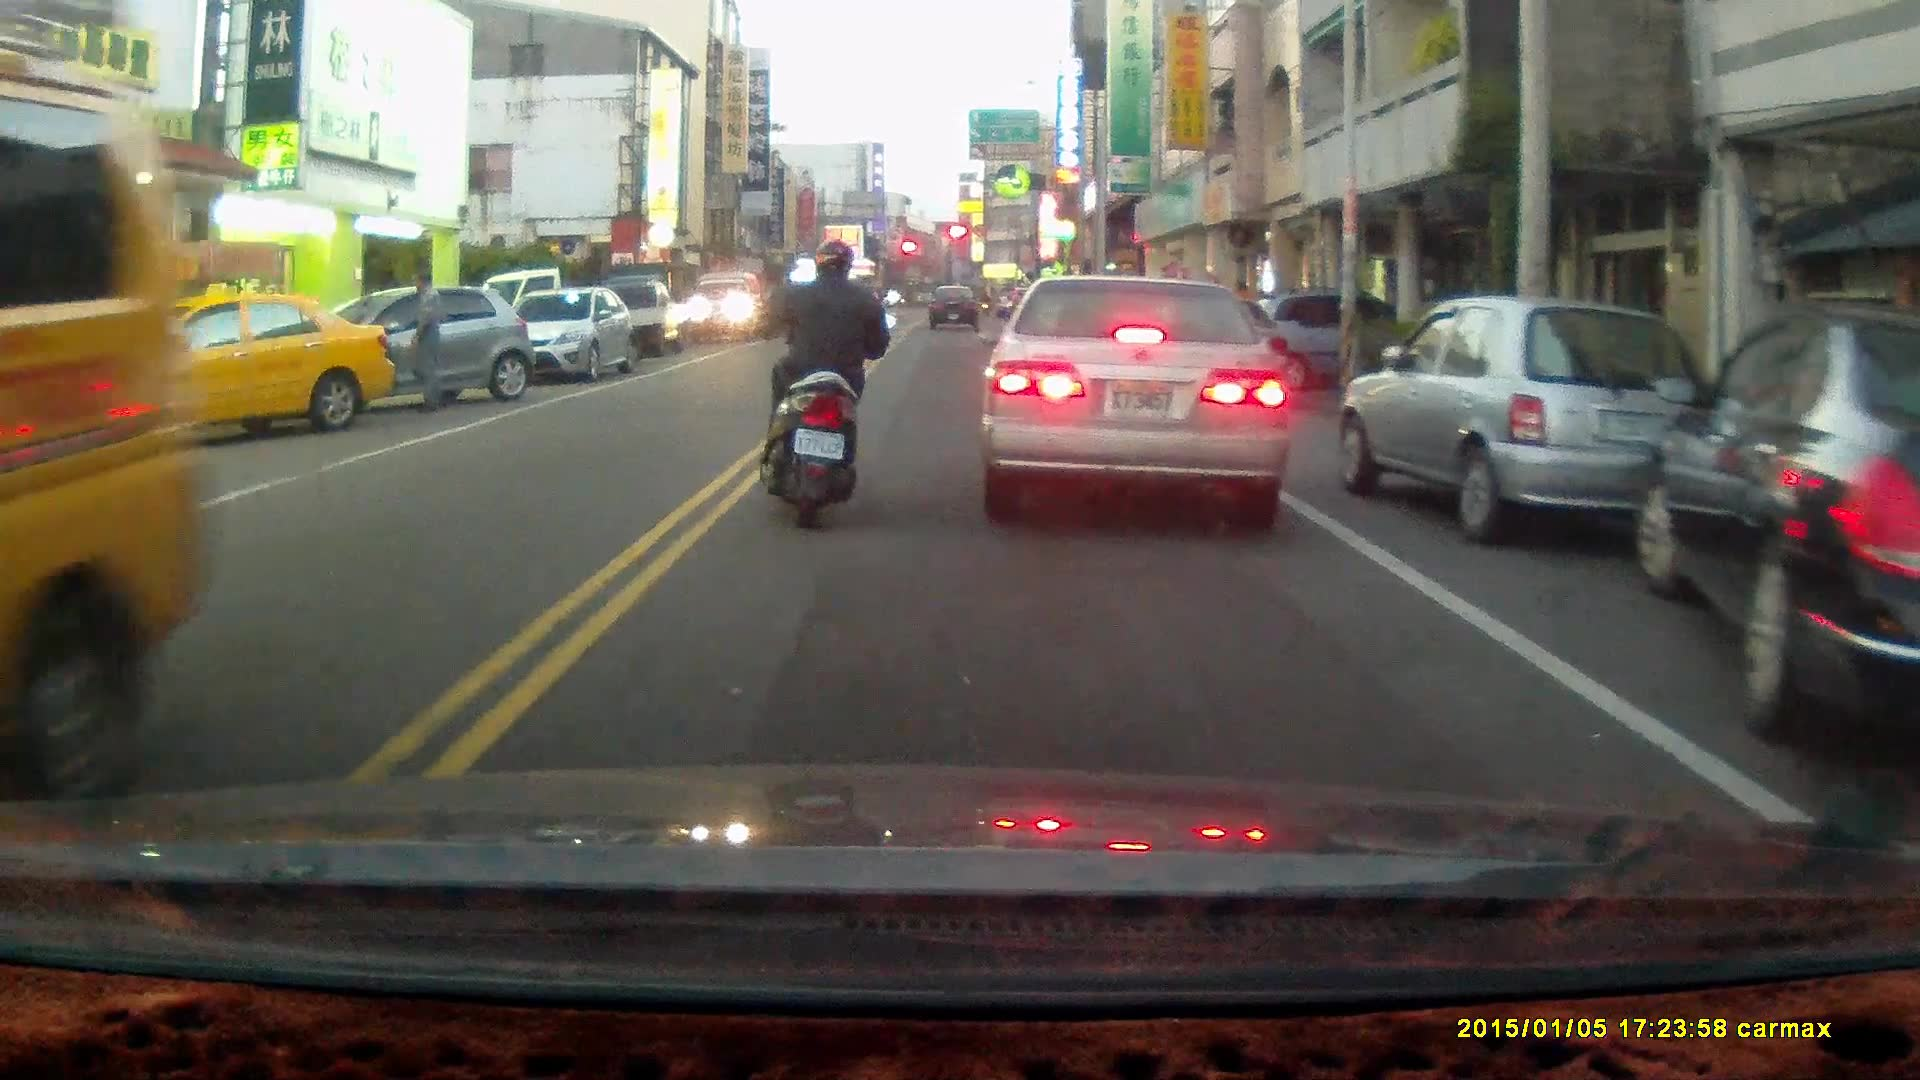pedestrian: (403, 269, 451, 416)
rider: (757, 236, 898, 532)
vehicle: (1, 52, 207, 791), (1629, 296, 1920, 754), (1337, 296, 1705, 545), (978, 272, 1294, 522), (36, 297, 407, 440), (312, 281, 530, 409), (512, 286, 639, 386), (684, 272, 769, 340)
